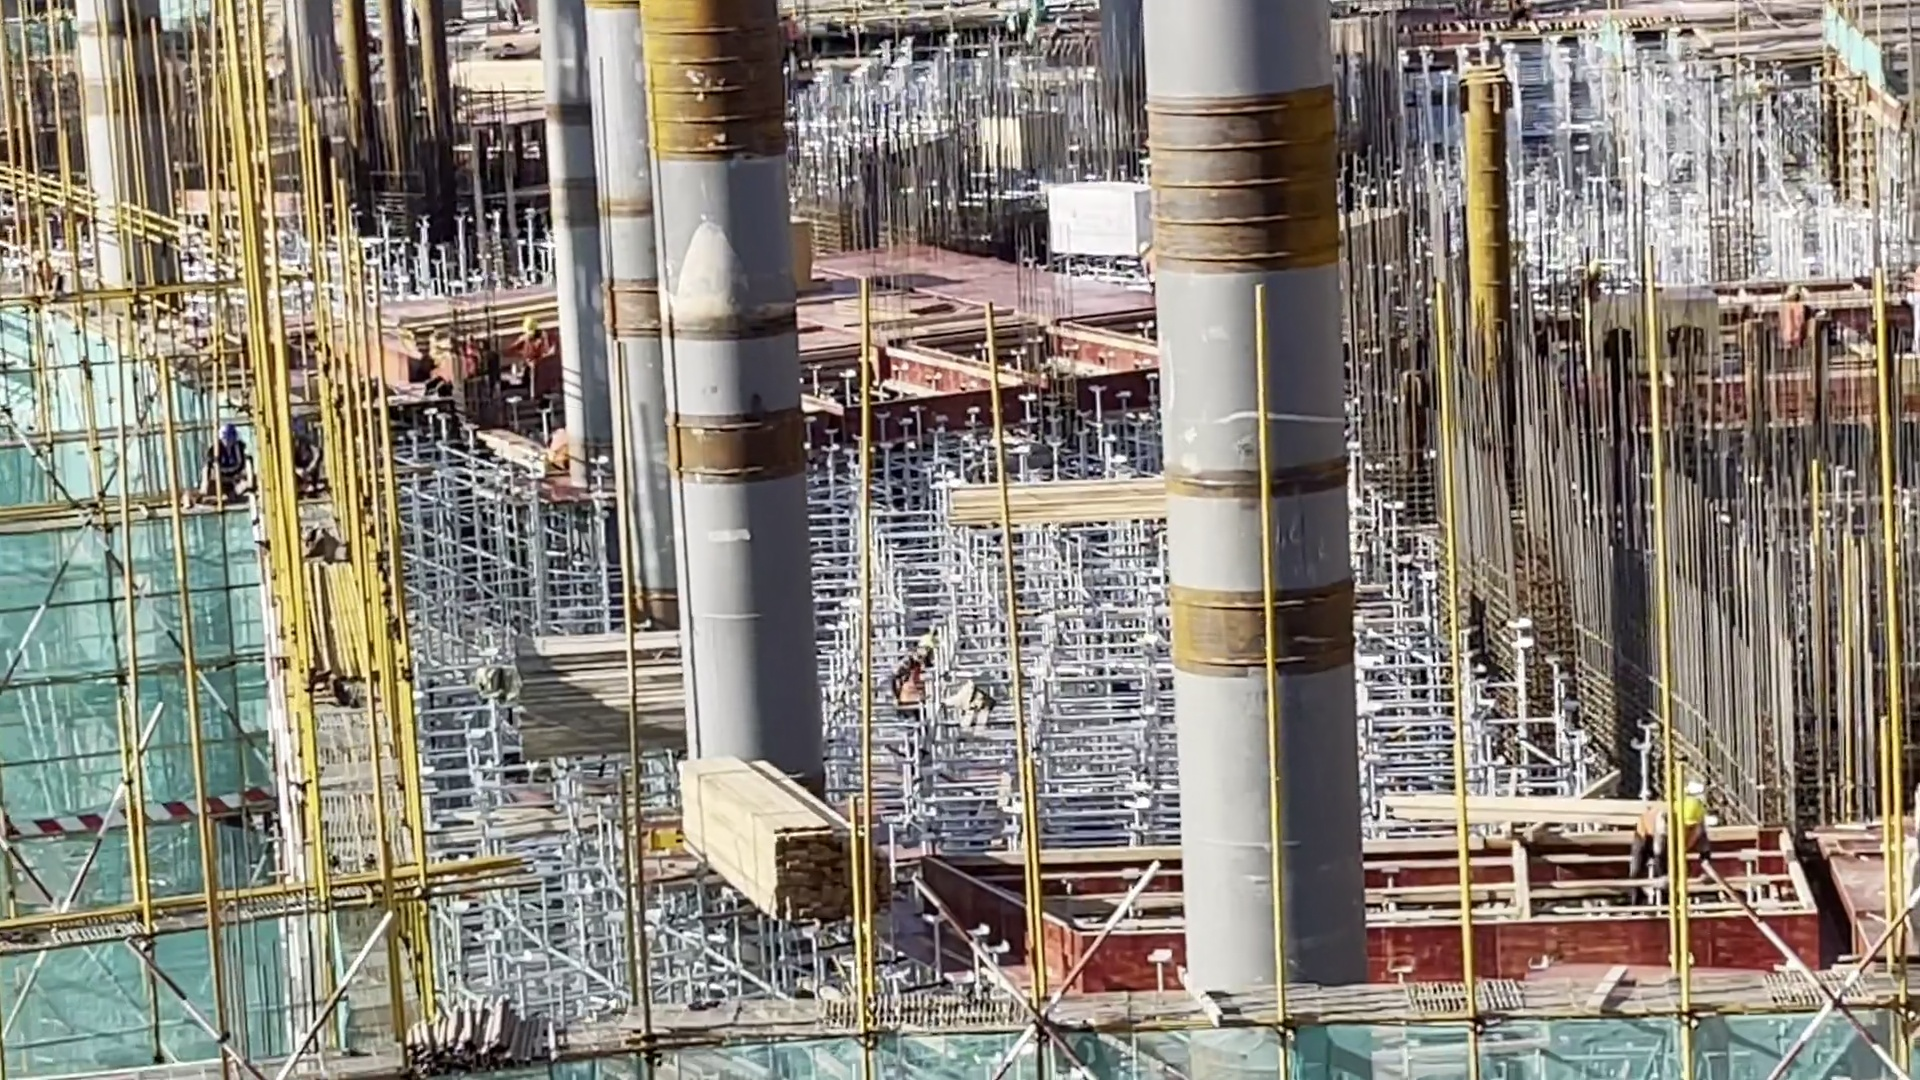helmet: (1677, 789, 1712, 835)
